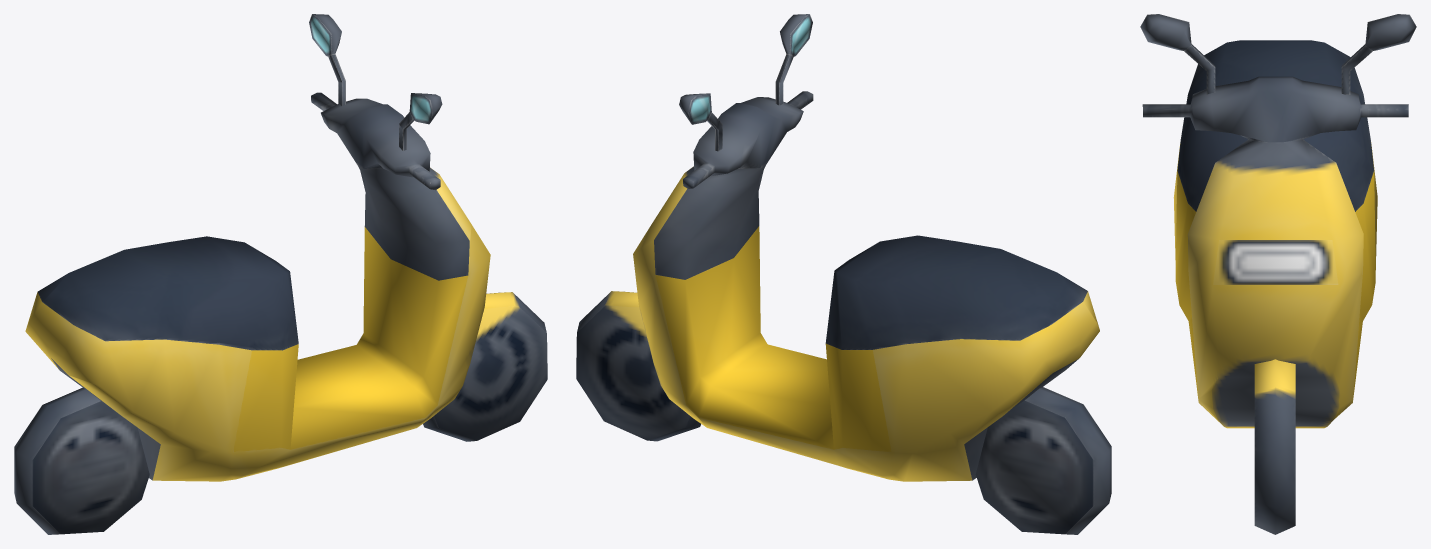
Rendered from Yellow_scooter.glb.
3 views of the same model, side by side, from view 1: azimuth 30°, elevation 25°; view 2: azimuth 150°, elevation 25°; view 3: azimuth 270°, elevation 25° (orthographic). The views are drawn at different scales.
Parts seen in each view (by area): view 1: Yellow_scooter.001; view 2: Yellow_scooter.001; view 3: Yellow_scooter.001.
Part boxes in pixels (x1,y1,x2,y2): Yellow_scooter.001: (14,14,547,534); Yellow_scooter.001: (576,14,1111,534); Yellow_scooter.001: (1140,14,1416,534).
Size of the model in its own units: 1.01 by 0.7454 by 0.411.
Materials: 1 (1 with a texture image).
